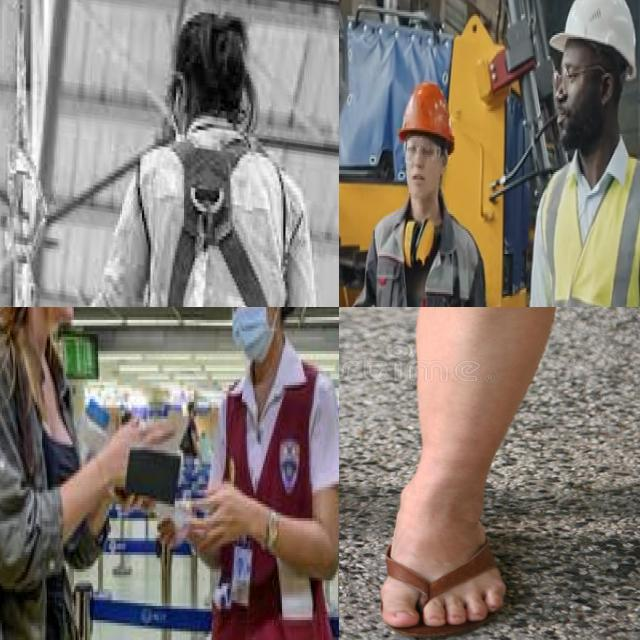Ear-protection: (400, 204, 438, 276)
Harness: (168, 139, 269, 307)
Sandals: (375, 478, 517, 638)
face_mask: (227, 307, 277, 365)
glasses: (398, 133, 448, 162), (548, 66, 590, 98)
hand_noglove: (188, 481, 244, 558)
head_helmet: (549, 0, 639, 83), (397, 79, 458, 144)
person: (194, 307, 339, 640), (502, 0, 640, 307), (0, 307, 122, 640), (346, 82, 495, 307)
vest: (533, 153, 640, 307)
